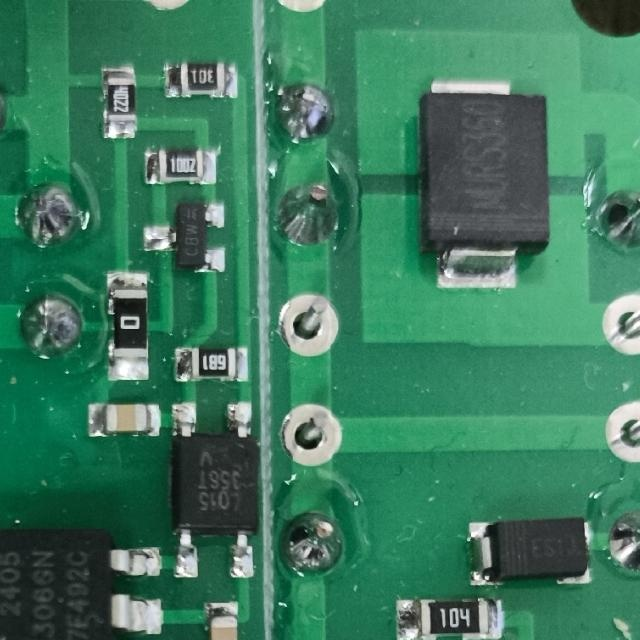chip-capacitor: (86, 400, 164, 440), (202, 598, 242, 640)
chip-resistor: (104, 270, 153, 385), (395, 598, 504, 640), (173, 346, 251, 385), (144, 144, 220, 184), (163, 62, 240, 101), (102, 64, 140, 141)
diode: (416, 76, 553, 291), (467, 517, 594, 588)
ic: (0, 521, 171, 640), (171, 397, 260, 581)
transistor: (142, 199, 228, 276)
